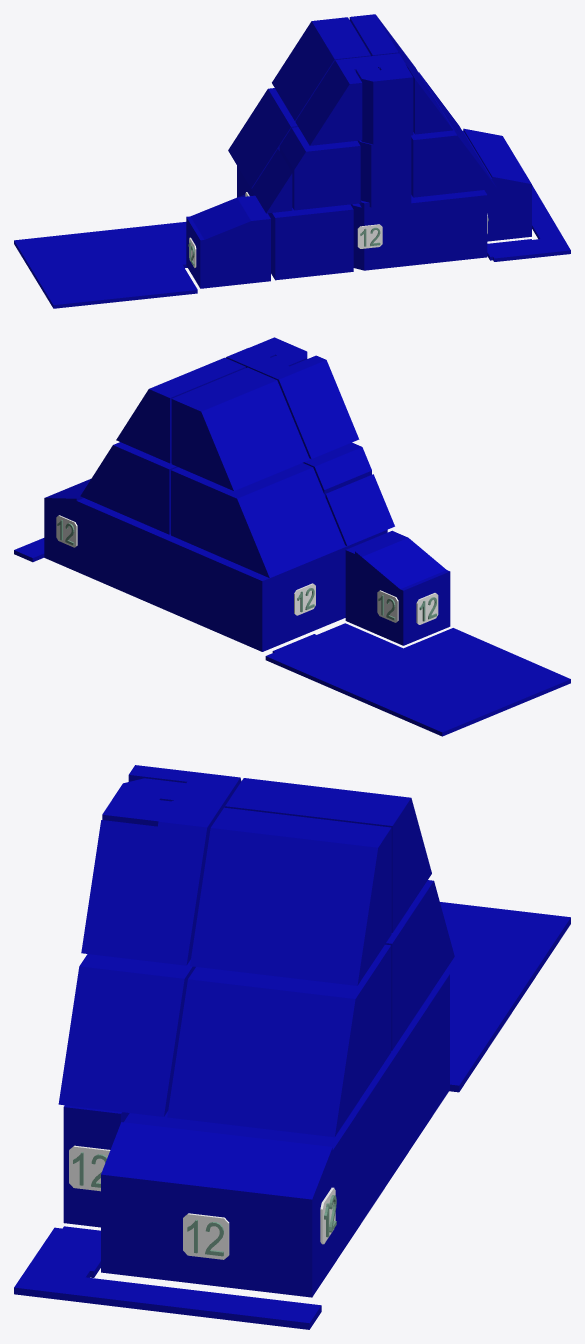
3 views of the same model, one above another, from view 1: azimuth 30°, elevation 25°; view 2: azimuth 150°, elevation 25°; view 3: azimuth 270°, elevation 25° (orthographic). The views are drawn at different scales.
Visible parts, largest first — view 1: g_19, g_0, g_14, g_1, g_5, g_6, g_12, g_2, g_11, g_15, g_3, g_7 (+7 smaller); view 2: g_19, g_7, g_12, g_2, g_1, g_0, g_14, g_8, g_13, g_16, g_6, g_15; view 3: g_2, g_8, g_13, g_14, g_11, g_19, g_12, g_17, g_7, g_1, g_18, g_5 (+3 smaller).
Boxes of the visible parts, bbox=[...] form: g_19: bbox=[14, 222, 197, 308]; g_0: bbox=[186, 194, 270, 288]; g_14: bbox=[295, 53, 452, 145]; g_1: bbox=[237, 166, 353, 280]; g_5: bbox=[411, 190, 487, 265]; g_6: bbox=[279, 127, 360, 210]; g_12: bbox=[272, 17, 370, 120]; g_2: bbox=[462, 128, 531, 241]; g_11: bbox=[411, 111, 496, 197]; g_15: bbox=[356, 64, 413, 139]; g_3: bbox=[350, 198, 413, 270]; g_7: bbox=[228, 88, 297, 188]; g_19: bbox=[265, 623, 570, 736]; g_7: bbox=[171, 463, 345, 577]; g_12: bbox=[171, 367, 309, 490]; g_2: bbox=[44, 479, 204, 623]; g_1: bbox=[197, 530, 387, 651]; g_0: bbox=[345, 530, 450, 645]; g_14: bbox=[226, 348, 359, 458]; g_8: bbox=[80, 442, 177, 534]; g_13: bbox=[116, 357, 245, 463]; g_16: bbox=[325, 474, 394, 545]; g_6: bbox=[303, 442, 371, 496]; g_15: bbox=[249, 337, 307, 366]; g_2: bbox=[101, 1035, 408, 1297]; g_8: bbox=[167, 944, 391, 1137]; g_13: bbox=[190, 807, 391, 985]; g_14: bbox=[81, 765, 241, 965]; g_11: bbox=[58, 954, 195, 1116]; g_19: bbox=[440, 902, 570, 1092]; g_12: bbox=[225, 778, 431, 932]; g_17: bbox=[74, 1277, 321, 1329]; g_7: bbox=[385, 880, 454, 1050]; g_1: bbox=[403, 973, 449, 1150]; g_18: bbox=[14, 1226, 100, 1301]; g_5: bbox=[63, 1105, 129, 1227].
Bounding box in the file's own units: 20.91 × 7.94 × 11.2.
